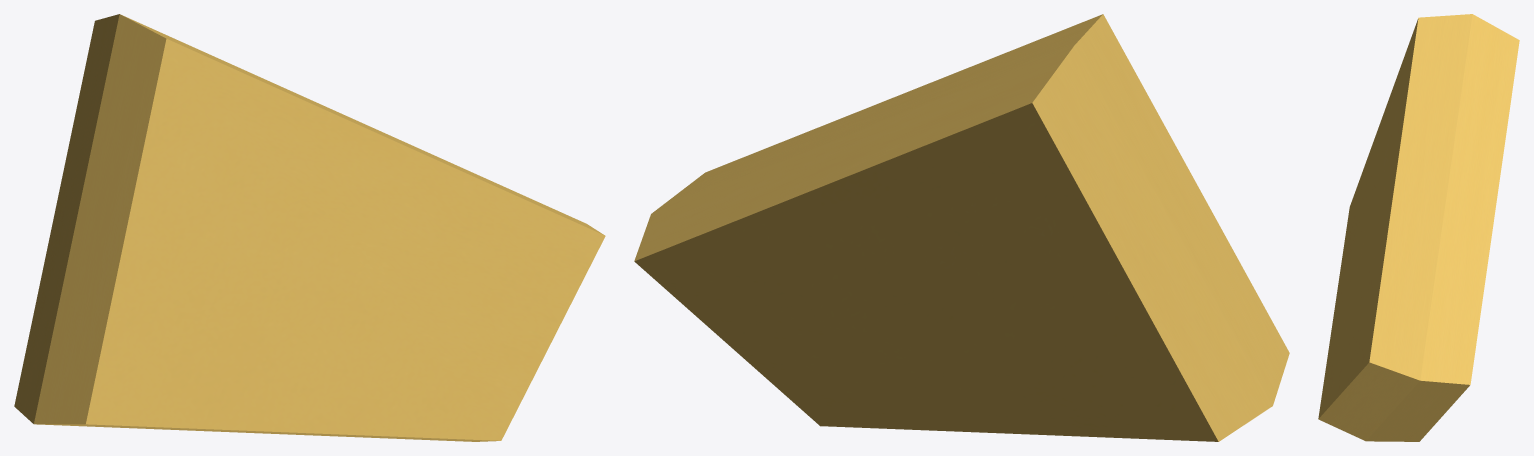
File: FXM_S29_HornShard.fbx
The picture shows the model from 3 angles, left to right: view 1: azimuth 30°, elevation 25°; view 2: azimuth 150°, elevation 25°; view 3: azimuth 270°, elevation 25°; orthographic projection. The views are drawn at different scales.
Parts seen in each view (by area): view 1: FXM_S29_HornShard_LOD0; view 2: FXM_S29_HornShard_LOD0; view 3: FXM_S29_HornShard_LOD0.
Boxes of the visible parts, bbox=[...] form: FXM_S29_HornShard_LOD0: bbox=[14, 14, 605, 441]; FXM_S29_HornShard_LOD0: bbox=[634, 14, 1289, 441]; FXM_S29_HornShard_LOD0: bbox=[1318, 14, 1519, 441].
Bounding box in the file's own units: 0.23 × 0.1741 × 0.0964.
